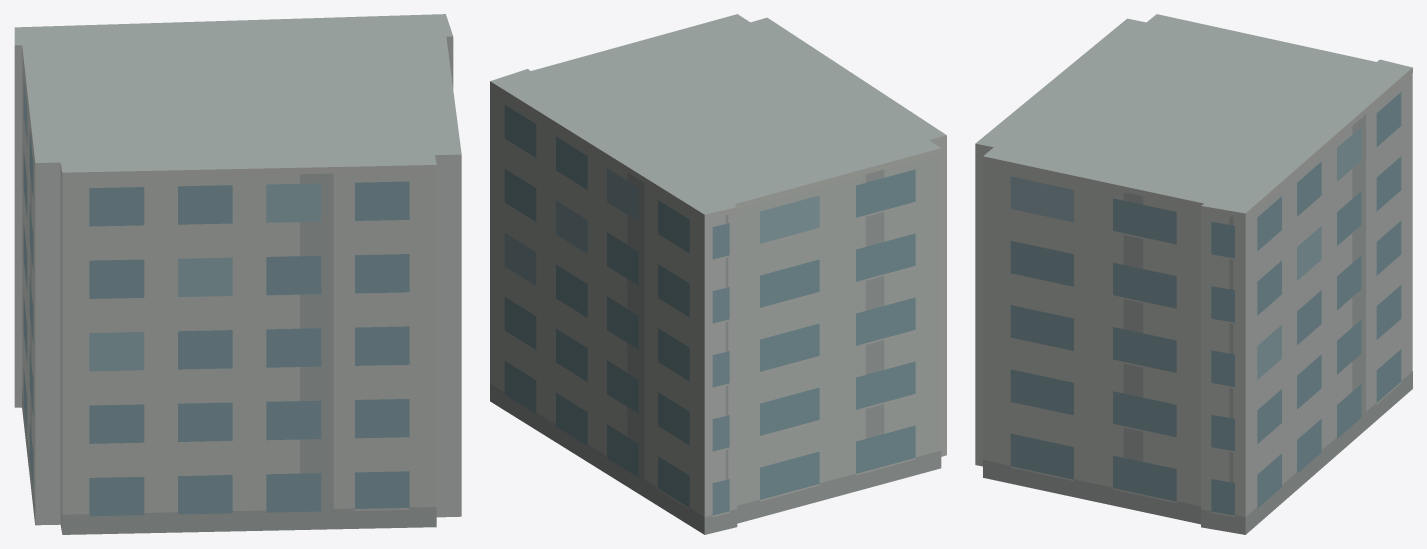
Rendered from survey-upis-32887763.glb.
The picture shows the model from 3 angles, left to right: view 1: azimuth 30°, elevation 25°; view 2: azimuth 150°, elevation 25°; view 3: azimuth 270°, elevation 25°; orthographic projection. The views are drawn at different scales.
Visible parts, largest first — view 1: survey-upis-32887763.tmp; view 2: survey-upis-32887763.tmp; view 3: survey-upis-32887763.tmp.
Boxes of the visible parts, x1,y1,x2,y2 form: survey-upis-32887763.tmp: (14, 14, 461, 534); survey-upis-32887763.tmp: (490, 14, 946, 534); survey-upis-32887763.tmp: (975, 14, 1412, 534).
Bounding box in the file's own units: 18.11 × 13.6 × 16.78.
